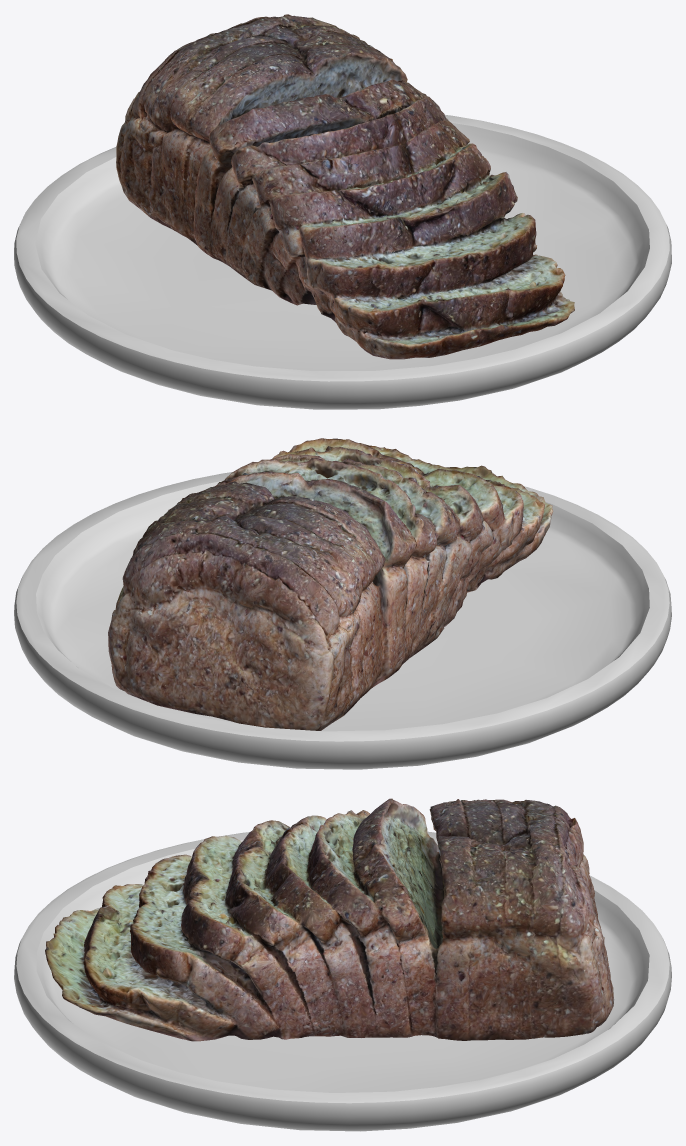
Rendered from Sliced Banana Bread Loaf.glb.
The picture shows the model from 3 angles, top to bottom: view 1: azimuth 30°, elevation 25°; view 2: azimuth 150°, elevation 25°; view 3: azimuth 270°, elevation 25°; orthographic projection.
Visible parts, largest first — view 1: Sliced Banana Bread Loaf; view 2: Sliced Banana Bread Loaf; view 3: Sliced Banana Bread Loaf.
Part boxes in pixels (x1,y1,x2,y2): Sliced Banana Bread Loaf: [14, 14, 671, 409]; Sliced Banana Bread Loaf: [14, 438, 671, 769]; Sliced Banana Bread Loaf: [14, 798, 671, 1131].
Size of the model in its own units: 0.246 by 0.0774 by 0.246.
Materials: 2 (1 with a texture image).
